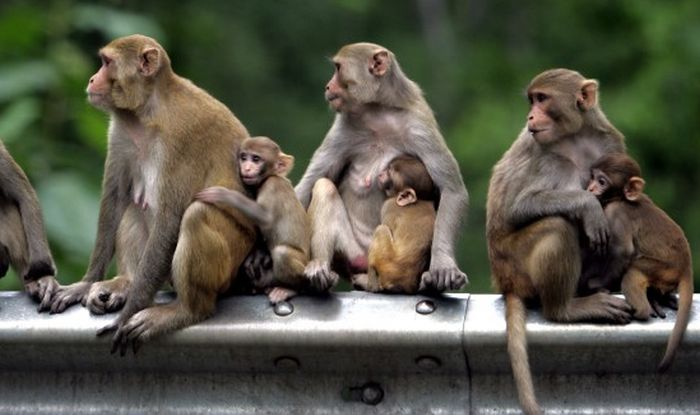monkey: (64, 37, 274, 354), (301, 34, 475, 303), (490, 69, 617, 414), (582, 144, 688, 363), (218, 116, 318, 300), (360, 155, 444, 289)
